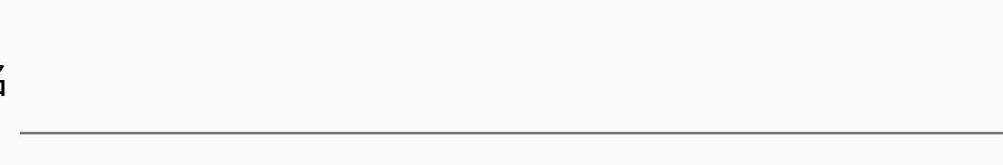EditText: (1, 1, 1002, 164)
